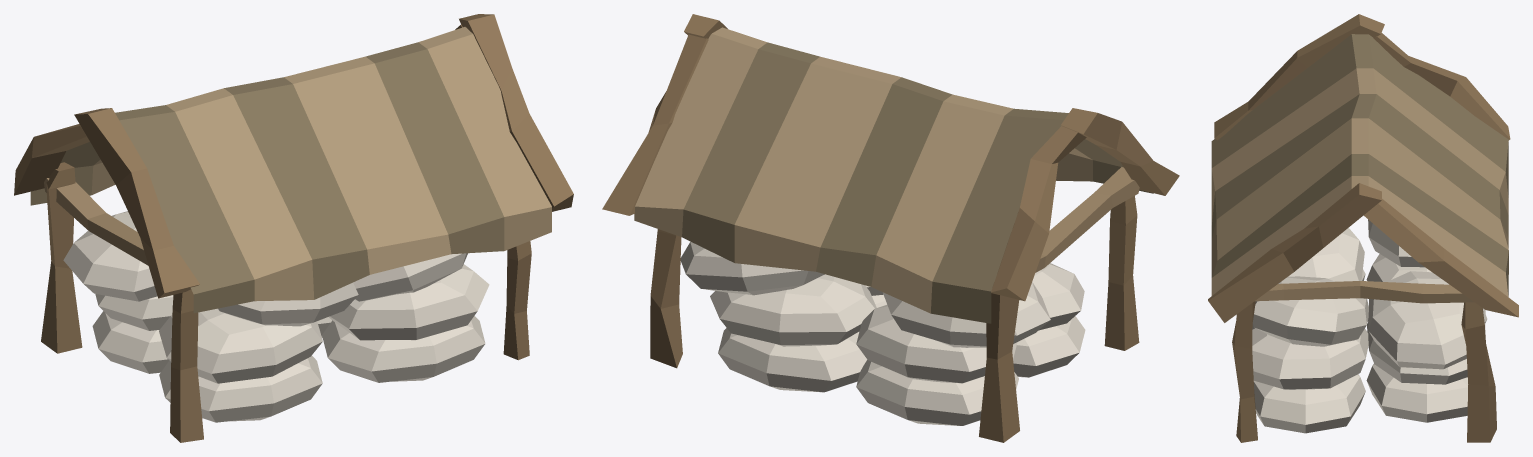
Rendered from Model_Forest_3x2A.fbx.
3 views of the same model, side by side, from view 1: azimuth 30°, elevation 25°; view 2: azimuth 150°, elevation 25°; view 3: azimuth 270°, elevation 25° (orthographic). The views are drawn at different scales.
Parts seen in each view (by area): view 1: Model_Frost_3x2A; view 2: Model_Frost_3x2A; view 3: Model_Frost_3x2A.
Part boxes in pixels (box(x1,y1,x2,y2)): Model_Frost_3x2A: box(14, 14, 573, 442); Model_Frost_3x2A: box(602, 14, 1179, 442); Model_Frost_3x2A: box(1208, 14, 1518, 442).
Bounding box in the file's own units: 583 × 409 × 415.
Materials: 1 (1 with a texture image).
